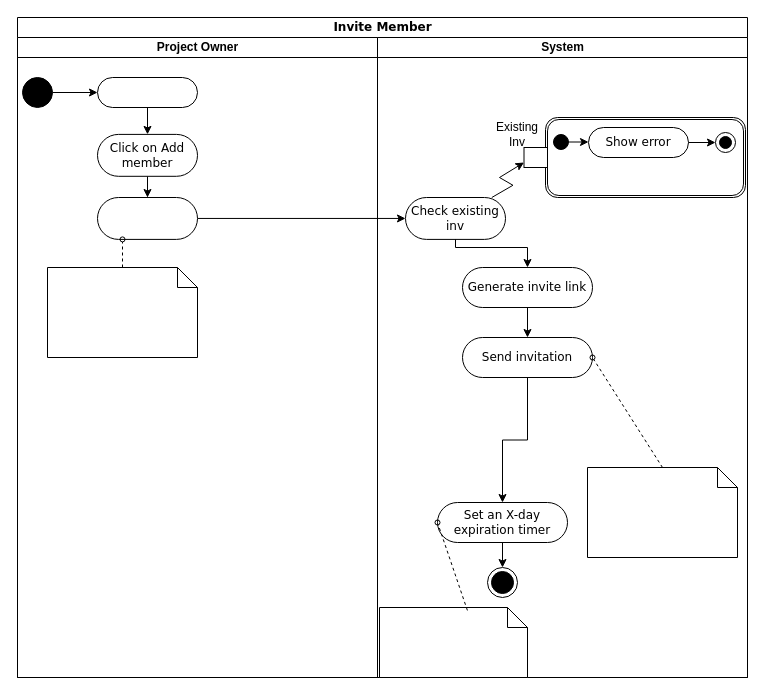
This 765x695 diagram has some shape labels left out. Here are the shapes that lost their labels. From the top down, the centre of each, then its label:
At pixel 147 92: "Choose an owned project".
At pixel 147 217: "Enter member data".
At pixel 122 312: "1. Usernane 2. Role in this project 3. An optional message".
At pixel 662 512: "The invitation contains the project details and the invitation link".
At pixel 453 642: "The expiration timer is still to be determined.".
